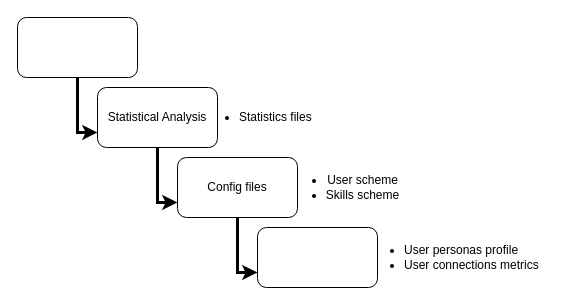
Some shapes in this 570 by 305 pixel diagram are drawn without their labels. Each missing label, with the box of its shape:
Dataset Generation: (256, 226, 378, 288)
Previous Dataset Collection: (16, 16, 138, 78)
